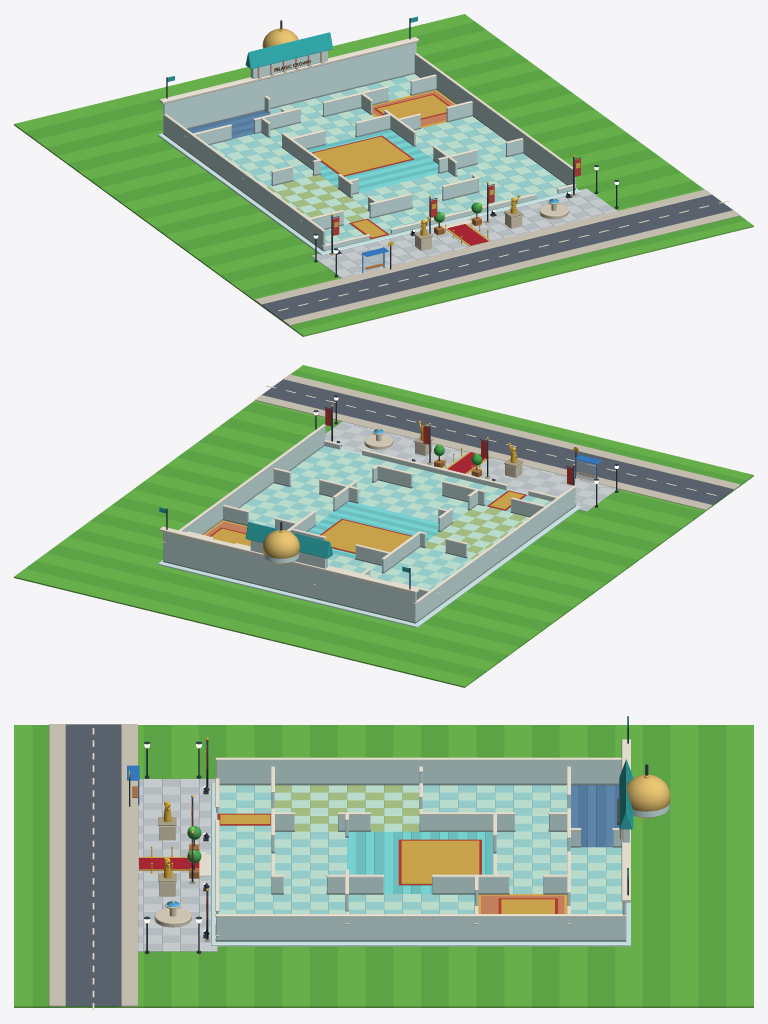
Rendered from shell.glb.
3 views of the same model, one above another, from view 1: azimuth 30°, elevation 25°; view 2: azimuth 150°, elevation 25°; view 3: azimuth 270°, elevation 25° (orthographic). The views are drawn at different scales.
Parts seen in each view (by area): view 1: grounds, building, crown, grand_2, grand_4, grand_3; view 2: grounds, building, crown, grand_2, dome, grand_4; view 3: grounds, building, crown, dome, grand_4, grand_2, grand_3.
Boxes of the visible parts, left/top/right/bottom form: grounds: left=14, top=14, right=753, bottom=336; building: left=158, top=42, right=580, bottom=255; crown: left=159, top=16, right=419, bottom=103; grand_2: left=329, top=155, right=581, bottom=255; grand_4: left=413, top=194, right=523, bottom=250; grand_3: left=337, top=191, right=571, bottom=254; grounds: left=14, top=365, right=753, bottom=687; building: left=158, top=424, right=580, bottom=627; crown: left=159, top=507, right=419, bottom=593; grand_2: left=324, top=404, right=576, bottom=504; dome: left=262, top=530, right=299, bottom=564; grand_4: left=413, top=420, right=523, bottom=477; grounds: left=14, top=724, right=753, bottom=1009; building: left=199, top=757, right=630, bottom=946; crown: left=617, top=716, right=669, bottom=902; dome: left=623, top=774, right=670, bottom=818; grand_4: left=158, top=801, right=176, bottom=896; grand_2: left=187, top=737, right=209, bottom=941; grand_3: left=139, top=785, right=209, bottom=938.
Size of the model in its own units: 36.5 by 6.12 by 40.
